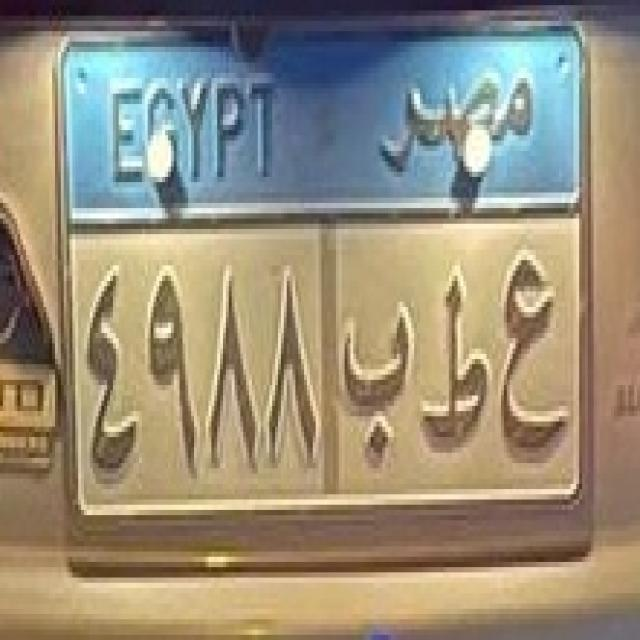4: (84, 262, 140, 484)
8: (208, 256, 268, 479), (264, 260, 320, 477)
9: (146, 266, 204, 480)
Een: (494, 246, 568, 484)
Taa: (420, 263, 493, 461)
baa: (338, 278, 416, 460)
